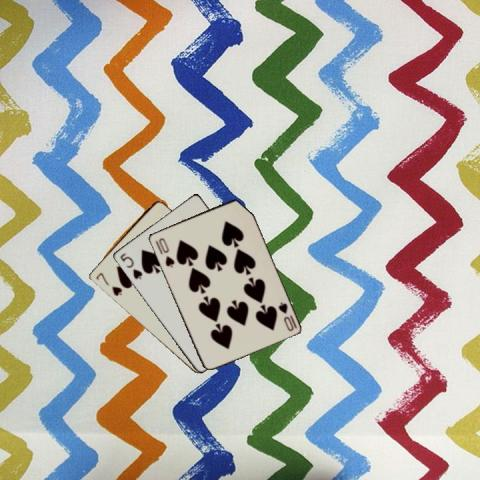10s: (156, 235, 176, 268), (275, 299, 295, 332)
5s: (117, 250, 143, 281)
7s: (93, 270, 123, 298)
